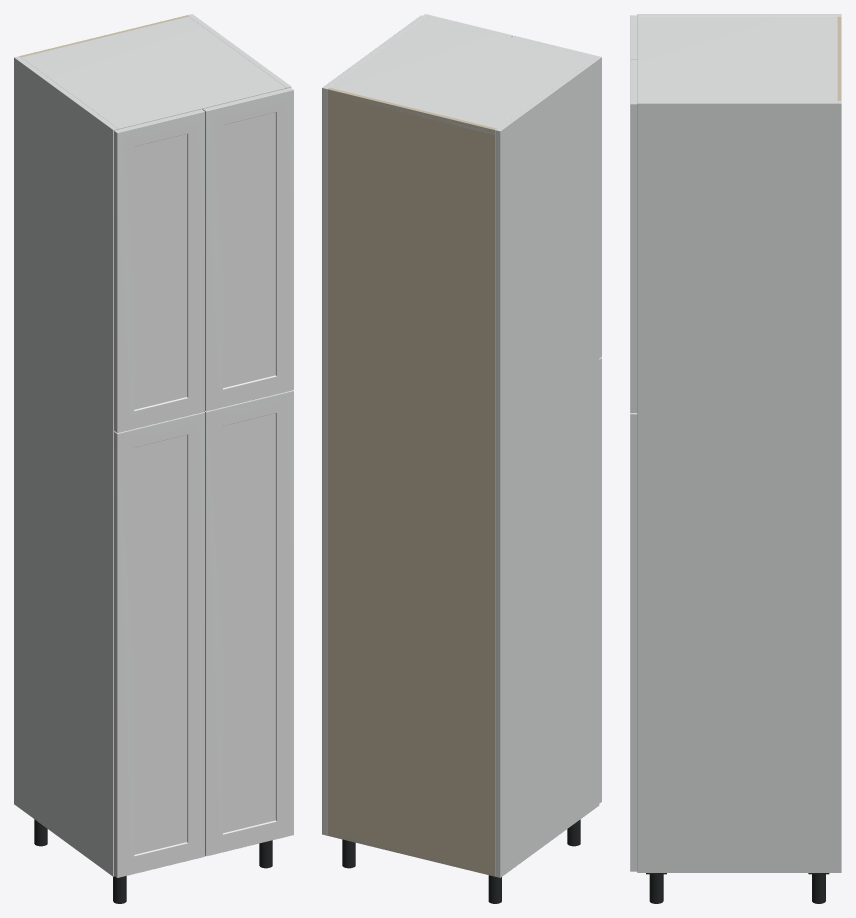
The model's file is PLY-WSS-PC2496.glb.
3 renders of one model, left to right at view 1: azimuth 30°, elevation 25°; view 2: azimuth 150°, elevation 25°; view 3: azimuth 270°, elevation 25°, orthographic. The views are drawn at different scales.
Parts seen in each view (by area): view 1: Carcass left, Shaker door, Shaker door.001, Shaker door.002, Shaker door.003, Carcass top, Carcass right; view 2: Carcass back, Carcass left, Carcass top, Carcass right, Shaker door, Shaker door.002, Carcass bottom; view 3: Carcass right, Carcass top, Shaker door.001, Shaker door.003, Carcass left, Adjustable foot.003.
Boxes of the visible parts, <box> form: Carcass left: <box>14,56,118,876</box>; Shaker door: <box>114,412,204,877</box>; Shaker door.001: <box>204,390,293,856</box>; Shaker door.002: <box>114,109,204,432</box>; Shaker door.003: <box>202,87,293,411</box>; Carcass top: <box>21,16,285,129</box>; Carcass right: <box>187,14,291,88</box>; Carcass back: <box>327,87,496,876</box>; Carcass left: <box>495,57,599,877</box>; Carcass top: <box>327,16,593,134</box>; Carcass right: <box>322,15,425,835</box>; Shaker door: <box>599,358,601,803</box>; Shaker door.002: <box>512,35,601,358</box>; Carcass bottom: <box>327,831,495,876</box>; Carcass right: <box>637,101,841,872</box>; Carcass top: <box>637,16,841,100</box>; Shaker door.001: <box>630,413,637,871</box>; Shaker door.003: <box>630,60,637,412</box>; Carcass left: <box>637,14,841,16</box>; Adjustable foot.003: <box>649,874,663,903</box>.
Bounding box in the file's own units: 0.6096 × 2.55 × 0.6064.
